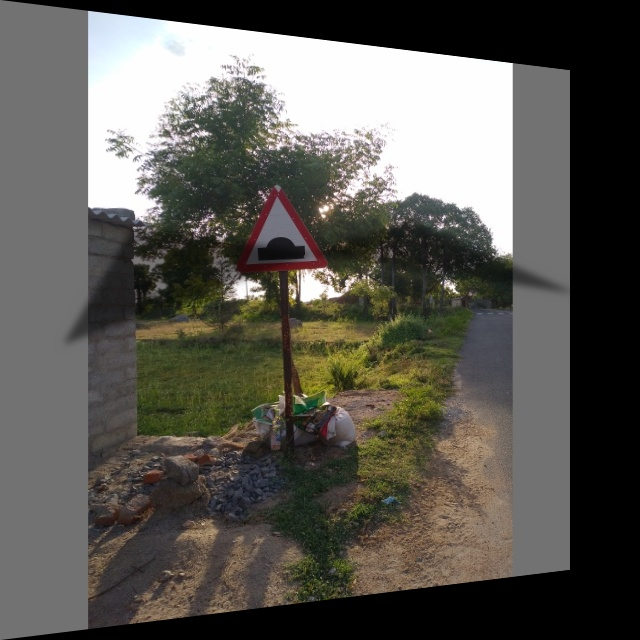Hump_or_Rough_Road: (240, 185, 327, 274)
